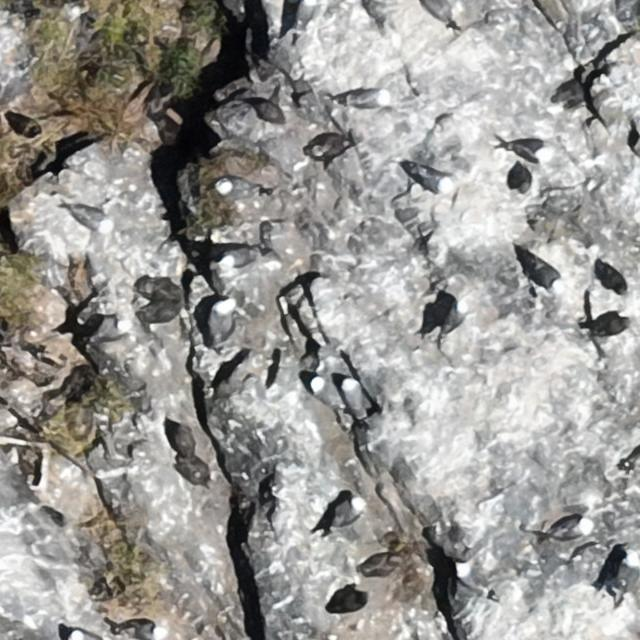umineko: (203, 295, 238, 350), (456, 560, 496, 596), (334, 88, 388, 109), (217, 246, 260, 270), (529, 260, 562, 289), (600, 264, 629, 294), (332, 498, 363, 526), (72, 209, 110, 231), (414, 168, 451, 190), (310, 377, 339, 405), (420, 1, 452, 23), (342, 378, 362, 412), (508, 140, 545, 158), (554, 519, 588, 538), (216, 180, 248, 198), (297, 2, 313, 25), (72, 630, 103, 639)
